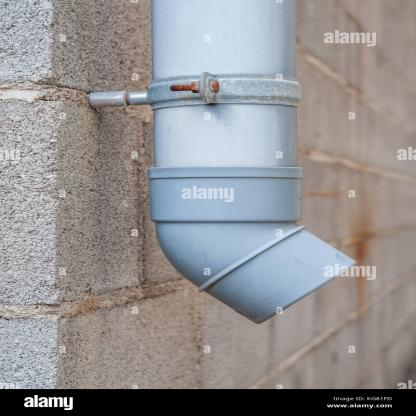PVC: (148, 0, 362, 327)
